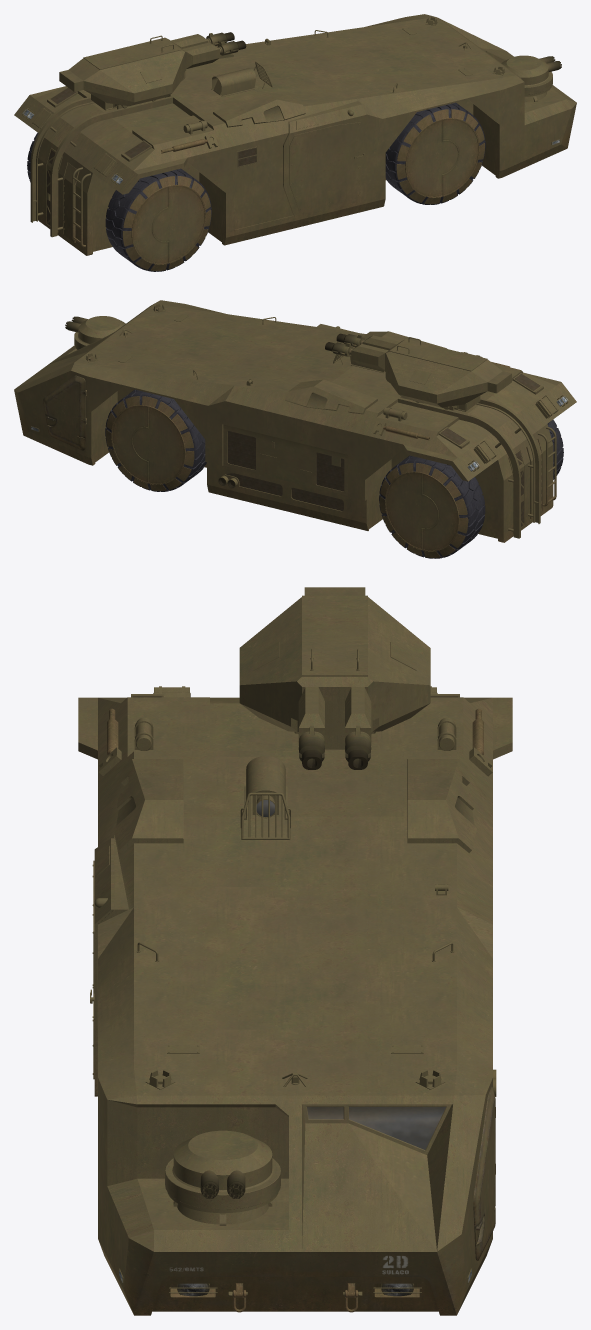
The model's file is m577apc.obj.
The picture shows the model from 3 angles, top to bottom: view 1: azimuth 30°, elevation 25°; view 2: azimuth 150°, elevation 25°; view 3: azimuth 270°, elevation 25°; orthographic projection. The views are drawn at different scales.
Visible parts, largest first — view 1: Mesh158_APCBody1_Model, Mesh114_APCSdDr1_Model, Mesh13_APCMnTrt1_Group5_Model, Mesh76_APCWhAmr4_Group10_Model, Mesh35_APCWhAmr1_Group7_Model, Mesh75_APCTire1_4_Group10_Model, Mesh161_APCLchCv2_Model, Mesh154_APCGunTk2_Model, Mesh34_APCTire1_1_Group7_Model, Mesh105_APCNsTrt1_Model, Mesh150_APCGunTk1_Model, Mesh14_APCMnGun1_Group5_Model (+5 smaller); view 2: Mesh158_APCBody1_Model, Mesh13_APCMnTrt1_Group5_Model, Mesh59_APCWhAmr3_Group9_Model, Mesh42_APCWhAmr2_Group8_Model, Mesh22_APCDDoor1_Group6_Model, Mesh58_APCTire1_3_Group9_Model, Mesh160_APCLchCv1_Model, Mesh41_APCTire1_2_Group8_Model, Mesh150_APCGunTk1_Model, Mesh154_APCGunTk2_Model, Mesh105_APCNsTrt1_Model, Mesh15_APCMnGun2_Group5_Model (+6 smaller); view 3: Mesh158_APCBody1_Model, Mesh13_APCMnTrt1_Group5_Model, Mesh105_APCNsTrt1_Model, Mesh161_APCLchCv2_Model, Mesh160_APCLchCv1_Model, Mesh22_APCDDoor1_Group6_Model, Mesh219_APCWnGls1_Model, Mesh114_APCSdDr1_Model, Mesh14_APCMnGun1_Group5_Model, Mesh15_APCMnGun2_Group5_Model, Mesh181_APCCamGd1_Model, Mesh217_ACPWnFrm1_Model (+1 smaller).
Boxes of the visible parts, x1=… form: Mesh158_APCBody1_Model: x1=14, y1=14, x2=576, y2=255; Mesh114_APCSdDr1_Model: x1=283, y1=104, x2=366, y2=218; Mesh13_APCMnTrt1_Group5_Model: x1=59, y1=37, x2=186, y2=106; Mesh76_APCWhAmr4_Group10_Model: x1=131, y1=184, x2=205, y2=264; Mesh35_APCWhAmr1_Group7_Model: x1=405, y1=118, x2=479, y2=197; Mesh75_APCTire1_4_Group10_Model: x1=105, y1=168, x2=211, y2=271; Mesh161_APCLchCv2_Model: x1=213, y1=92, x2=305, y2=127; Mesh154_APCGunTk2_Model: x1=50, y1=96, x2=172, y2=237; Mesh34_APCTire1_1_Group7_Model: x1=385, y1=102, x2=485, y2=204; Mesh105_APCNsTrt1_Model: x1=501, y1=55, x2=552, y2=96; Mesh150_APCGunTk1_Model: x1=30, y1=96, x2=94, y2=222; Mesh14_APCMnGun1_Group5_Model: x1=182, y1=40, x2=246, y2=68; Mesh158_APCBody1_Model: x1=14, y1=300, x2=576, y2=542; Mesh13_APCMnTrt1_Group5_Model: x1=385, y1=339, x2=511, y2=407; Mesh59_APCWhAmr3_Group9_Model: x1=385, y1=471, x2=459, y2=551; Mesh42_APCWhAmr2_Group8_Model: x1=111, y1=405, x2=185, y2=484; Mesh22_APCDDoor1_Group6_Model: x1=43, y1=375, x2=86, y2=450; Mesh58_APCTire1_3_Group9_Model: x1=379, y1=455, x2=485, y2=558; Mesh160_APCLchCv1_Model: x1=285, y1=379, x2=377, y2=414; Mesh41_APCTire1_2_Group8_Model: x1=105, y1=389, x2=206, y2=491; Mesh150_APCGunTk1_Model: x1=398, y1=397, x2=520, y2=538; Mesh154_APCGunTk2_Model: x1=476, y1=398, x2=540, y2=523; Mesh105_APCNsTrt1_Model: x1=74, y1=316, x2=125, y2=349; Mesh15_APCMnGun2_Group5_Model: x1=325, y1=342, x2=388, y2=370; Mesh158_APCBody1_Model: x1=78, y1=697, x2=512, y2=1315; Mesh13_APCMnTrt1_Group5_Model: x1=239, y1=587, x2=430, y2=735; Mesh105_APCNsTrt1_Model: x1=165, y1=1130, x2=280, y2=1213; Mesh161_APCLchCv2_Model: x1=114, y1=759, x2=183, y2=853; Mesh160_APCLchCv1_Model: x1=407, y1=759, x2=476, y2=852; Mesh22_APCDDoor1_Group6_Model: x1=473, y1=1087, x2=495, y2=1260; Mesh219_APCWnGls1_Model: x1=349, y1=1107, x2=445, y2=1149; Mesh114_APCSdDr1_Model: x1=93, y1=838, x2=114, y2=1096; Mesh14_APCMnGun1_Group5_Model: x1=298, y1=687, x2=324, y2=769; Mesh15_APCMnGun2_Group5_Model: x1=345, y1=687, x2=371, y2=769; Mesh181_APCCamGd1_Model: x1=244, y1=756, x2=287, y2=819; Mesh217_ACPWnFrm1_Model: x1=302, y1=1104, x2=451, y2=1154.
Bounding box in the file's own units: 8.57 × 2.93 × 3.29.
16 materials, 13 textured.
